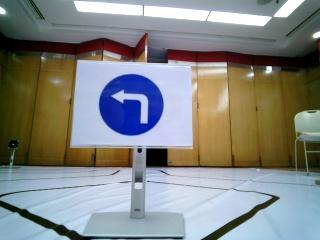left: (87, 69, 177, 147)
